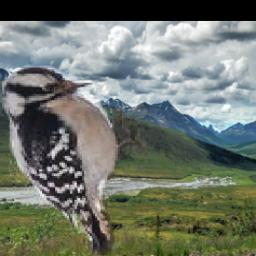Woodpecker: (0, 67, 147, 256)
